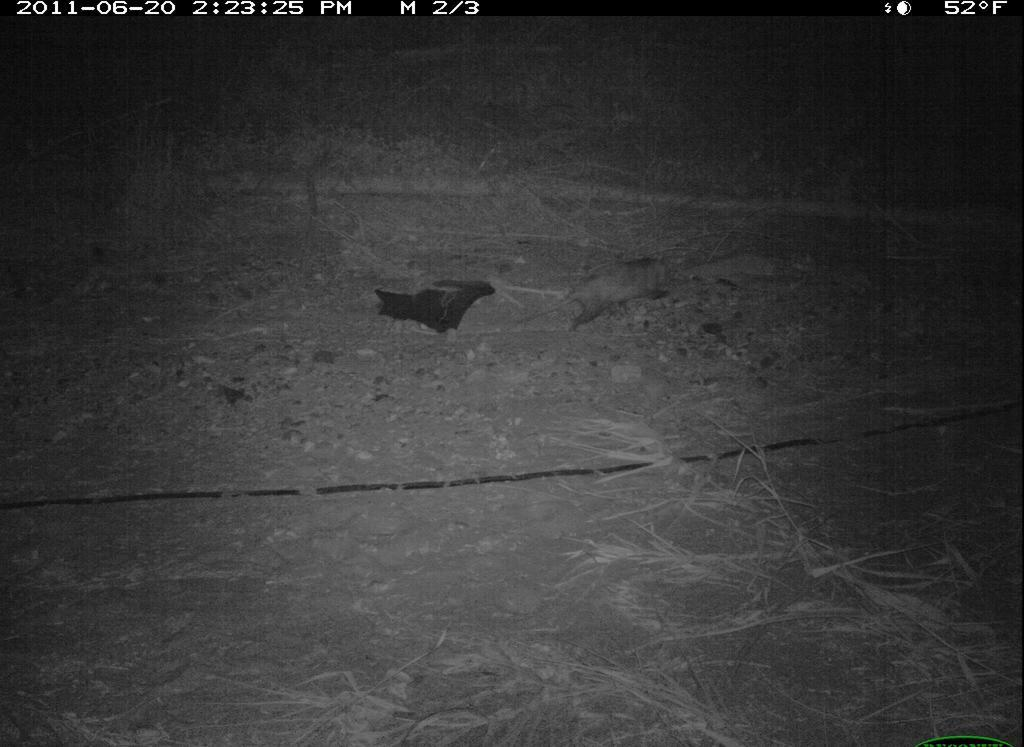opossum: (509, 254, 679, 342)
